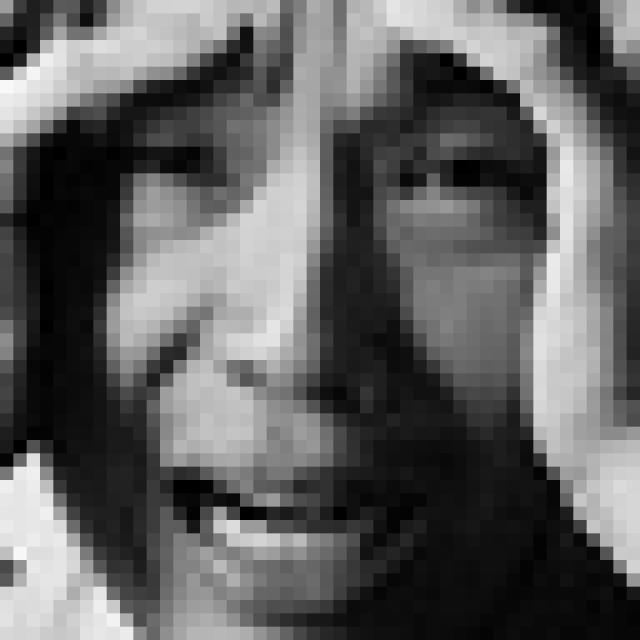fear: (96, 50, 539, 632)
